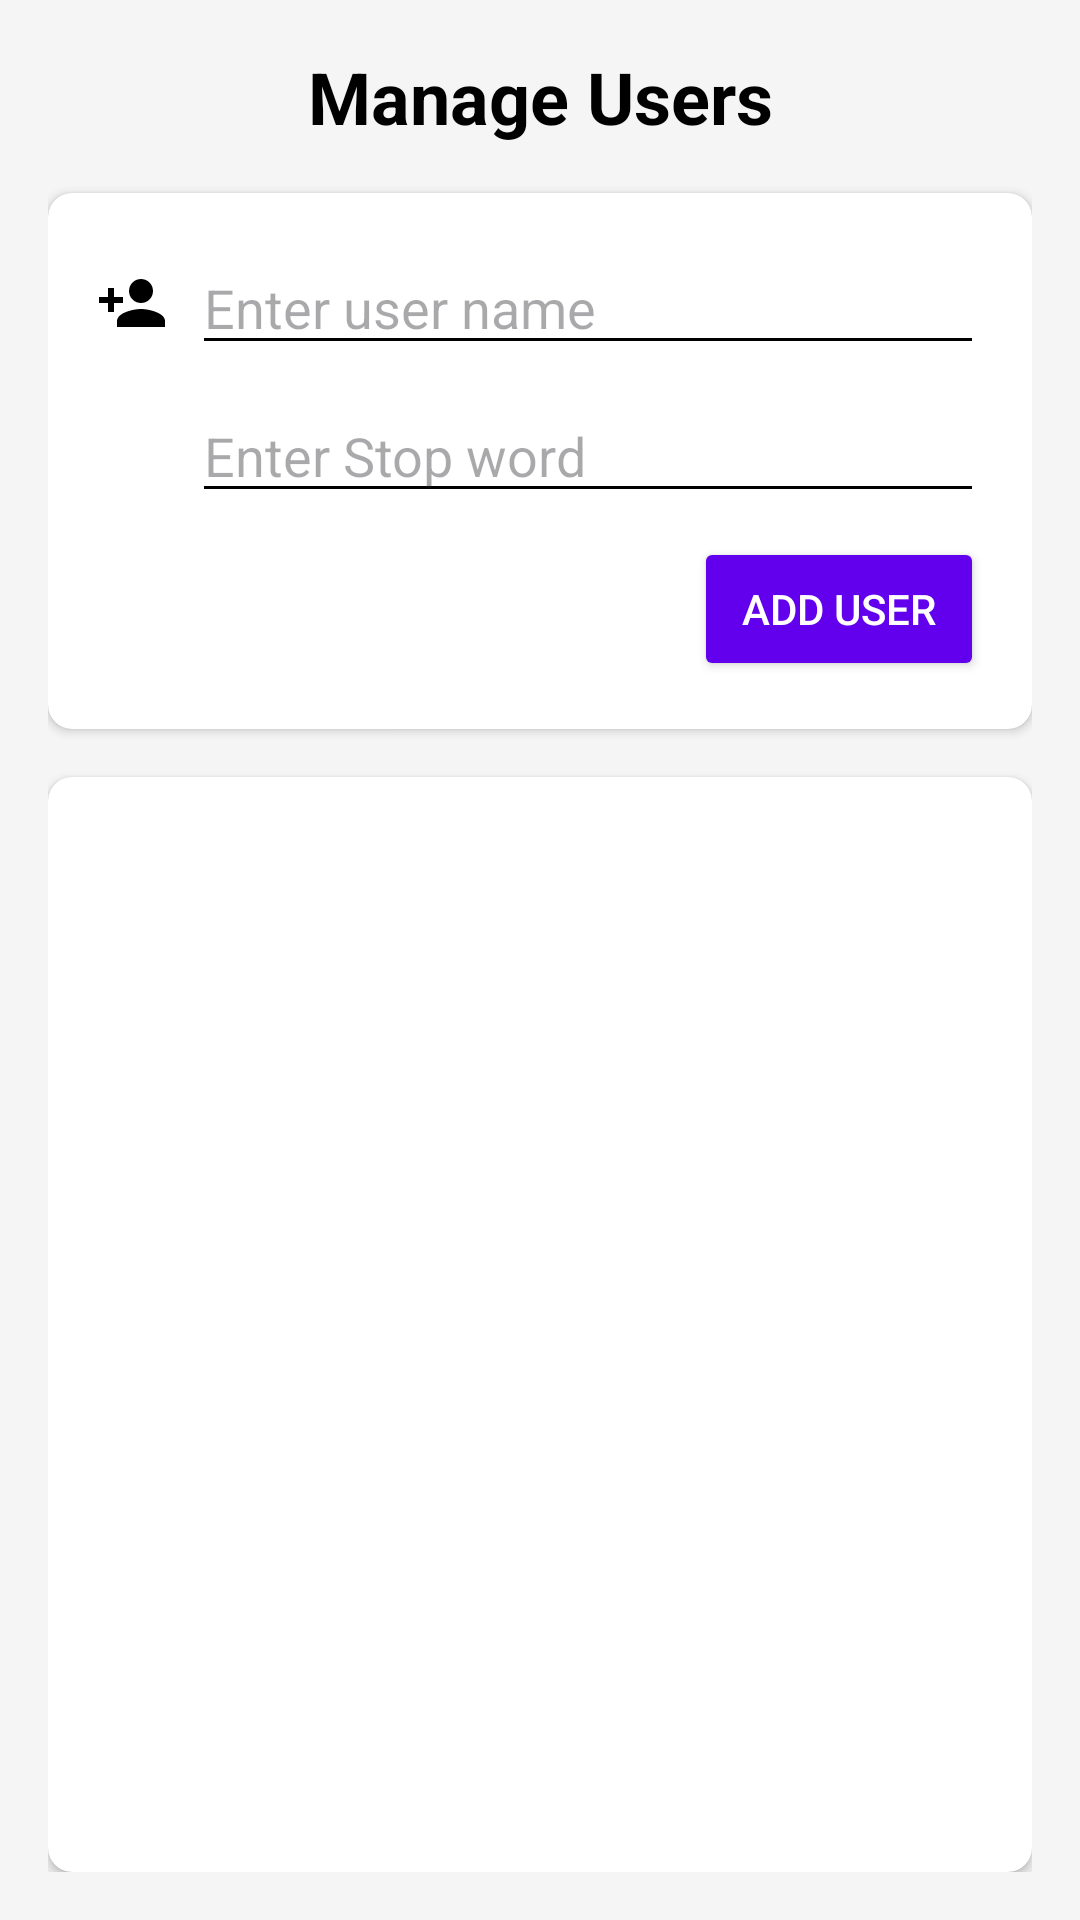

Screen size 1080*1920. Icon name, then its center in pixels as (x,y):
person add: (132,303)
